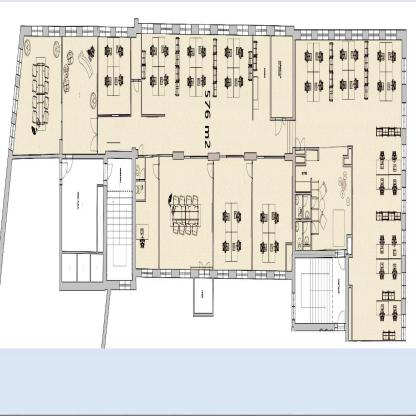door: (88, 115, 99, 153), (334, 247, 346, 273), (102, 164, 113, 185), (336, 310, 346, 330), (198, 262, 210, 278), (151, 163, 160, 183), (245, 161, 253, 183), (294, 136, 306, 150), (275, 118, 286, 133), (58, 164, 67, 180), (66, 154, 74, 171), (132, 77, 139, 96), (207, 164, 215, 180), (137, 144, 143, 160), (140, 169, 146, 183)
window: (6, 47, 24, 152), (400, 58, 408, 85), (119, 277, 131, 294), (160, 22, 174, 36), (334, 27, 346, 43), (141, 23, 155, 36), (367, 30, 380, 44), (401, 144, 407, 174), (82, 24, 94, 38), (98, 26, 112, 38), (401, 229, 406, 258), (401, 315, 407, 339), (237, 23, 248, 36), (291, 292, 296, 320), (317, 30, 329, 41), (351, 30, 362, 42), (216, 269, 228, 280), (140, 270, 152, 281), (401, 186, 406, 212), (255, 270, 266, 281), (48, 25, 60, 35), (66, 23, 76, 35), (116, 25, 126, 37), (179, 26, 191, 36), (256, 25, 266, 37), (274, 26, 286, 36), (300, 30, 312, 40), (402, 276, 407, 300), (199, 25, 209, 36), (218, 25, 228, 36), (274, 271, 284, 282), (180, 268, 191, 278), (32, 26, 42, 36), (385, 31, 396, 40), (236, 270, 247, 279), (402, 104, 406, 128), (160, 270, 172, 278)
zone: (295, 40, 403, 336), (97, 36, 294, 155), (160, 156, 212, 268), (14, 35, 61, 154), (296, 150, 351, 249), (62, 159, 102, 282), (253, 160, 292, 271), (214, 156, 251, 272), (62, 36, 96, 154), (295, 258, 345, 324), (107, 159, 132, 279), (135, 156, 158, 270)
